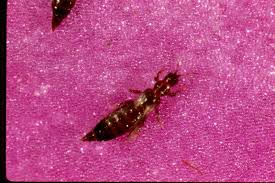Thrips: (86, 60, 196, 152)
